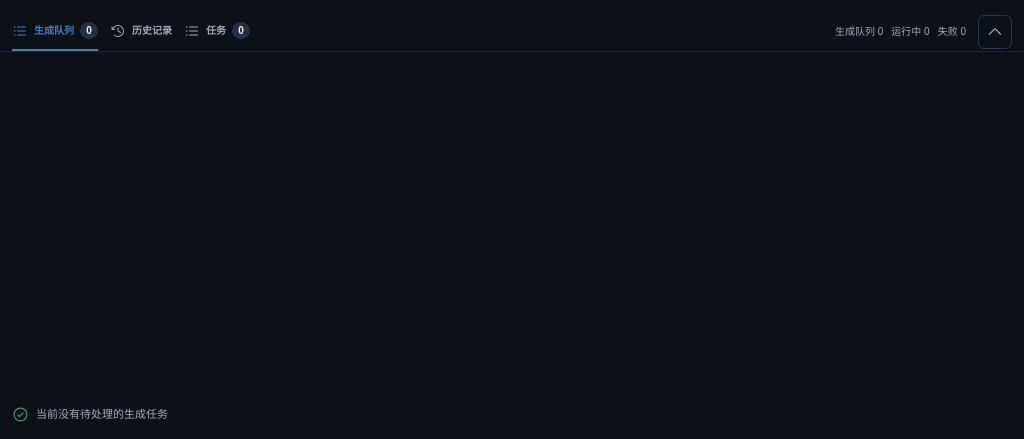
GenerationQueue Jobs tab › renders the job list with status badges and a count summary
// switch to the jobs tab
Click the button "任务 0" at (217,32), box [184,12,250,51]
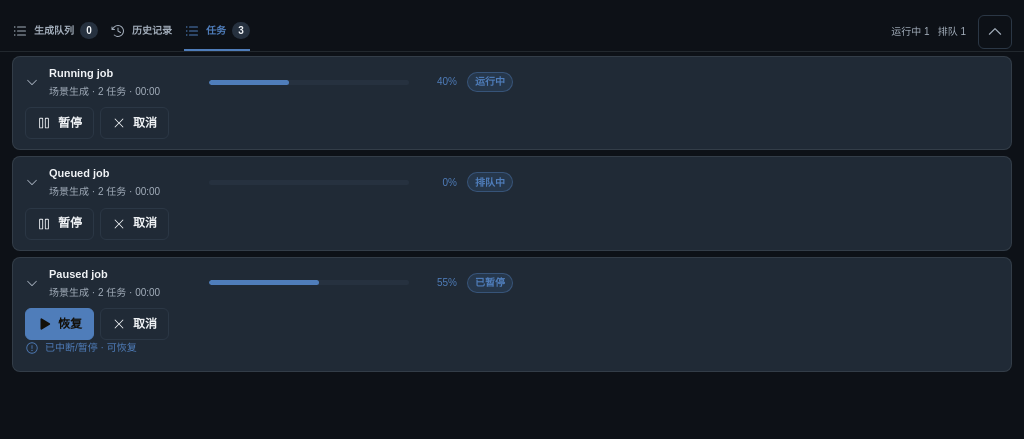
Now the text "Running job" is shown, box [49,67,113,79]
Now the text "Queued job" is shown, box [49,167,110,179]
Now the text "Paused job" is shown, box [49,268,108,280]
